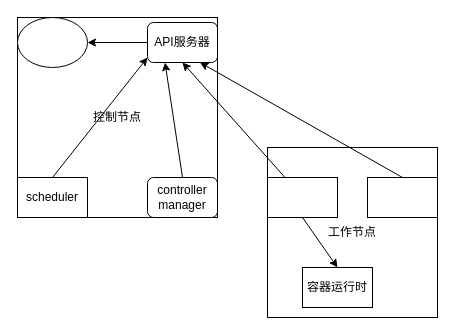
Some shapes in this 455 by 335 pixel diagram are drawn without their labels. Each missing label, with the centre of its shape:
etcd: the point at 52,42
kube-proxy: the point at 402,197
kubelet: the point at 302,197
